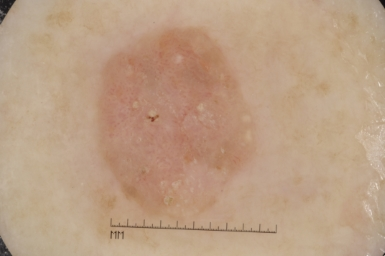seborrheic keratosis: (86, 23, 275, 222)
